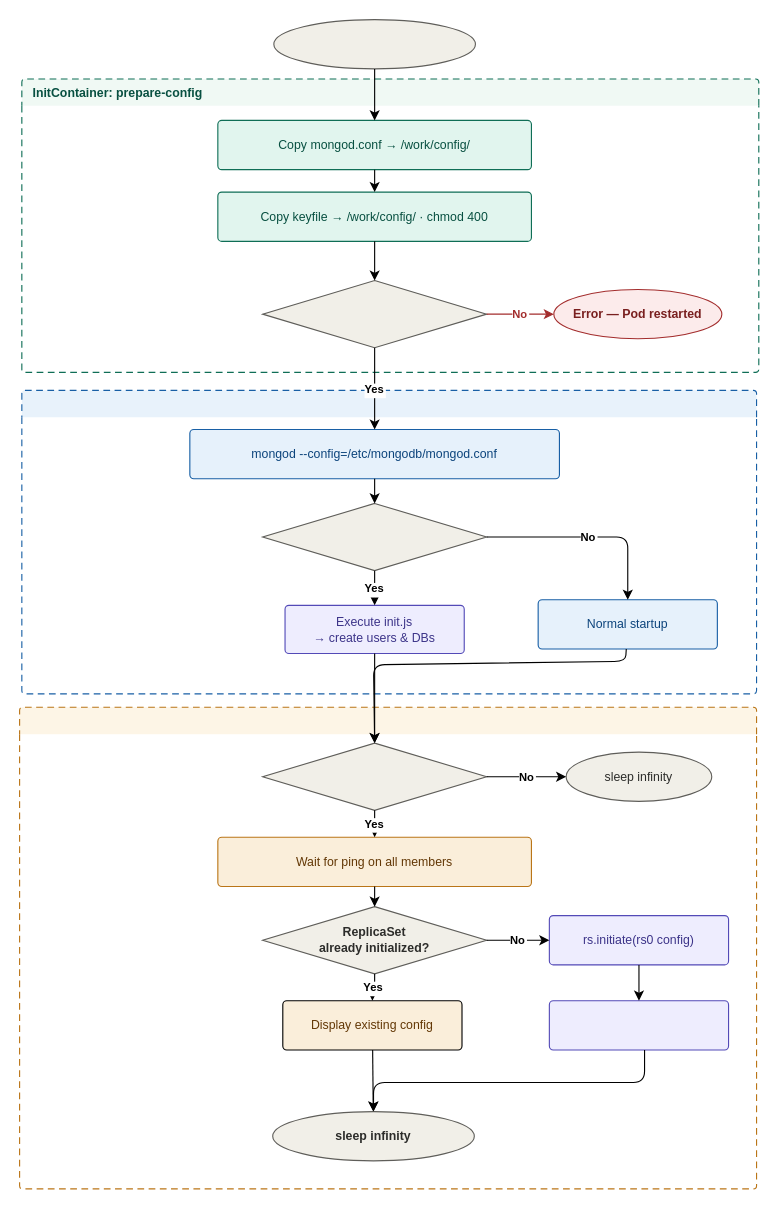
This 778x1208 diagram has some shape labels left out. The box of each missing label's shape, as (x1, y1, x2, y2) in pixels:
Container: mongodb: (21, 389, 757, 694)
Container: replica-manager: (18, 706, 757, 1189)
First startup? /data/db empty?: (262, 502, 487, 571)
hostname == mongodb-od-0?: (262, 742, 487, 810)
InitContainer OK?: (262, 279, 487, 348)
Pod created by K8s: (273, 18, 475, 69)
Wait for PRIMARY election: (548, 1000, 729, 1050)
